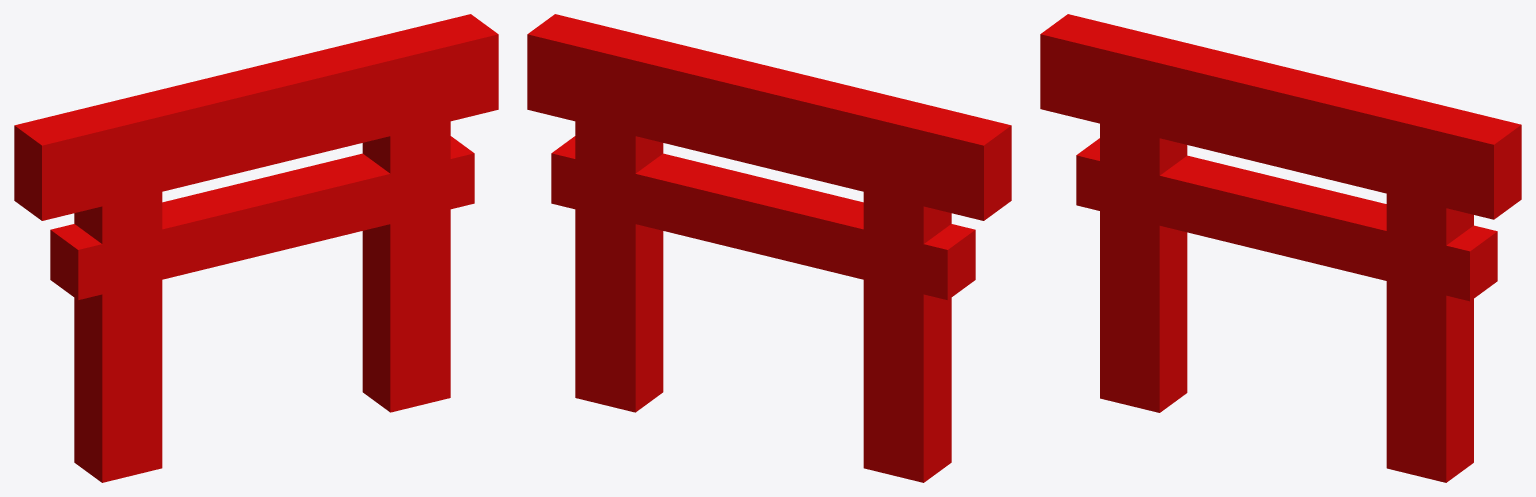
File: Tor.obj
3 renders of one model, left to right at view 1: azimuth 30°, elevation 25°; view 2: azimuth 150°, elevation 25°; view 3: azimuth 330°, elevation 25°, orthographic.
Bounding box in the file's own units: 38 × 28 × 4.
Materials: 1 (1 with a texture image).
